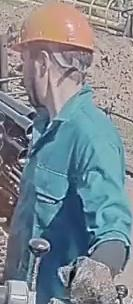gloves: (56, 249, 121, 303)
helmet: (10, 2, 94, 53)
vest: (4, 95, 133, 303)
